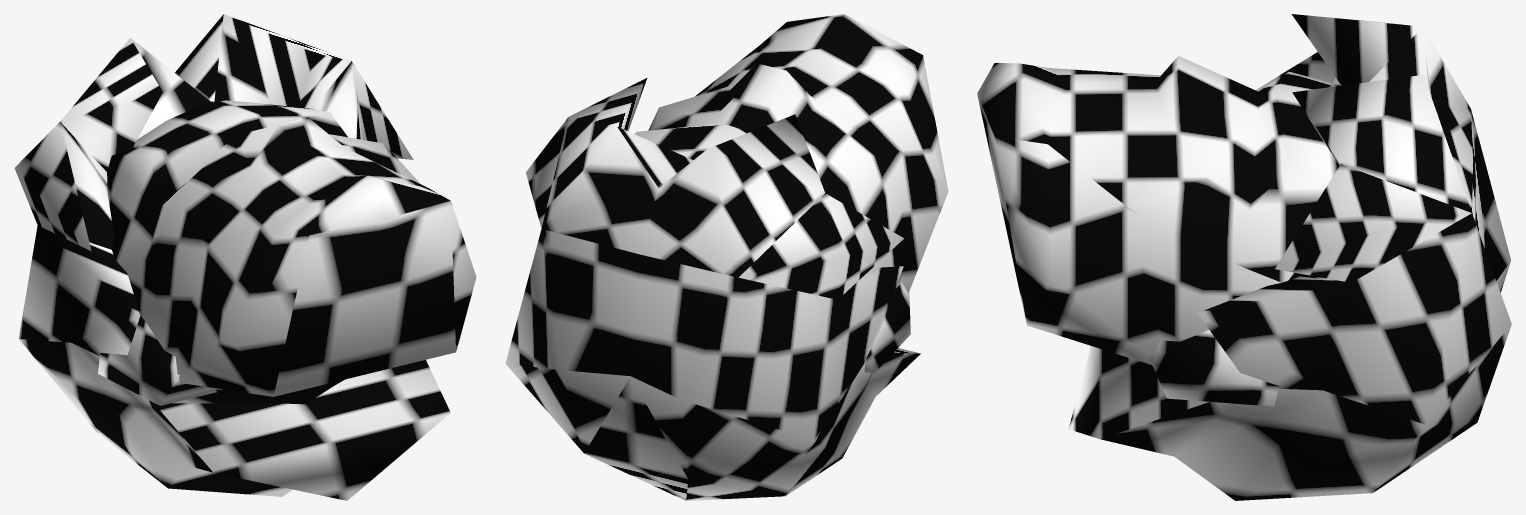
File: infaunhumafa2.dae
3 renders of one model, left to right at view 1: azimuth 30°, elevation 25°; view 2: azimuth 150°, elevation 25°; view 3: azimuth 270°, elevation 25°, orthographic. The views are drawn at different scales.
Parts seen in each view (by area): view 1: face; view 2: face; view 3: face.
Boxes of the visible parts, x1=… form: face: x1=14, y1=14, x2=476, y2=500; face: x1=505, y1=14, x2=948, y2=500; face: x1=977, y1=14, x2=1511, y2=500.
Size of the model in its own units: 1.26 by 1.61 by 1.4.
1 material, 1 textured.
